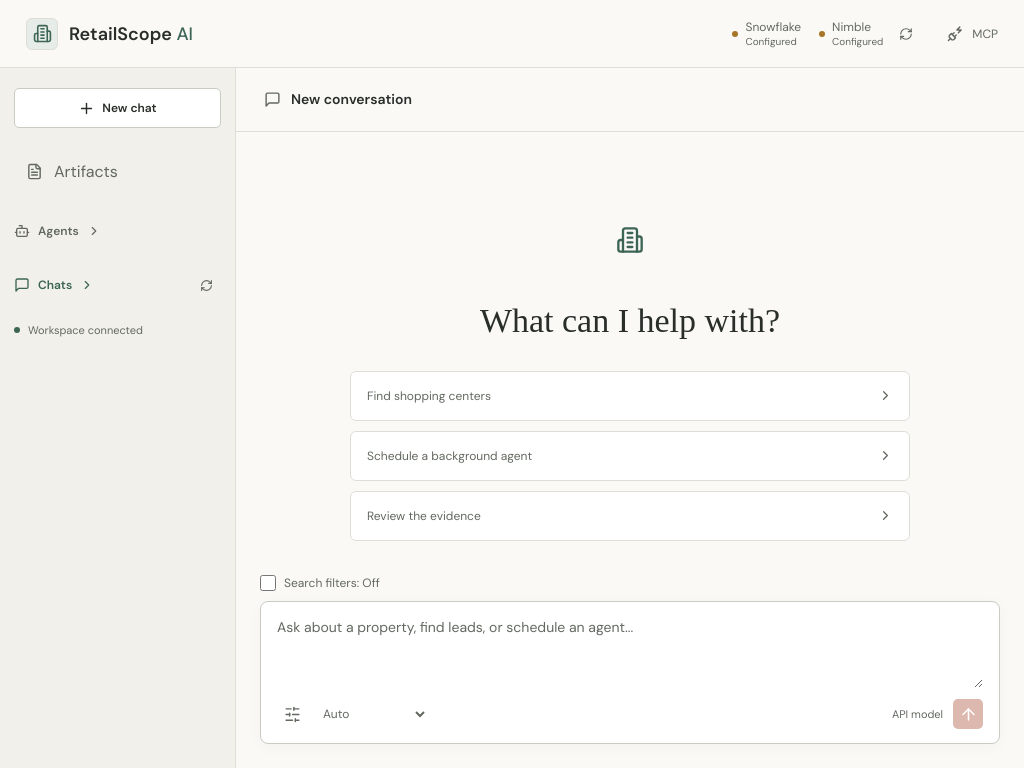
Test: chat-first workspace › keeps late chat replies in their thread without leaving Artifacts
The image size is (1024, 768).
Expected: the text "Workspace connected" is shown, [14,323,143,337]
Type "Evaluate the evidence" into the text box named "Message RetailScope" at (630,652), box [277,616,983,688]
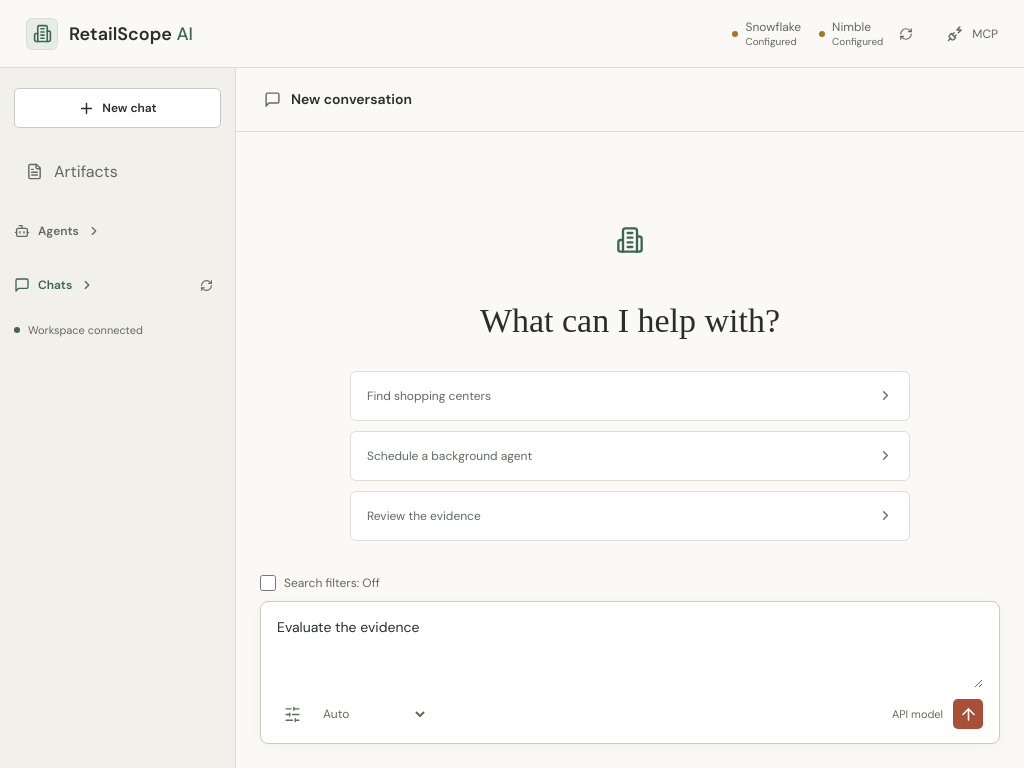
Click the button named "Send message" at (968,714), box [953,699,983,729]
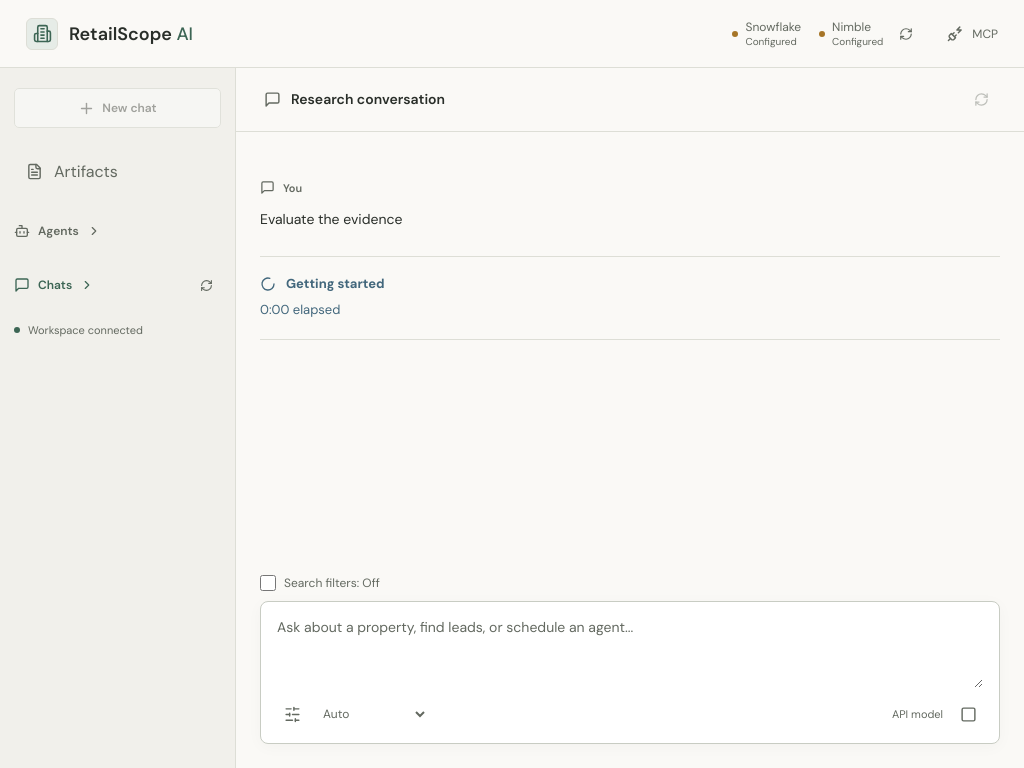
Now the button "New chat" is disabled, box [14,88,221,128]
Click the button "Artifacts" at (118,172), box [14,150,221,193]
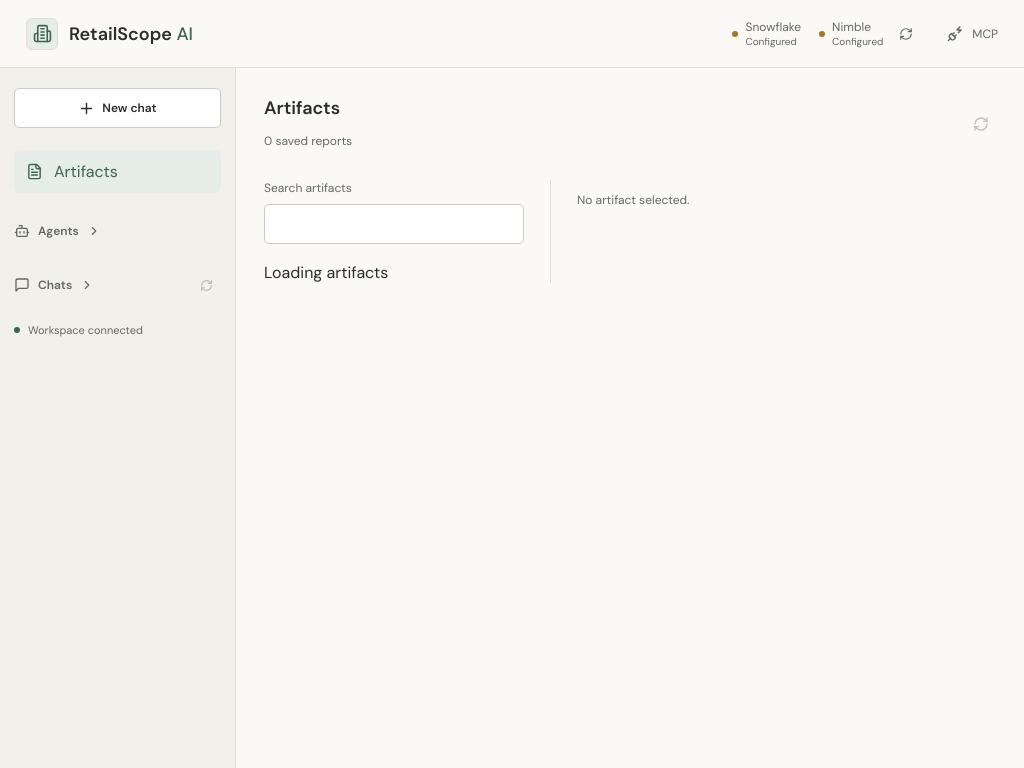
Now the button "New chat" is enabled, box [14,88,221,128]
Now the element "Artifacts" is shown, box [236,68,1023,311]
Click the button "Chats" at (54,285), box [14,269,94,301]
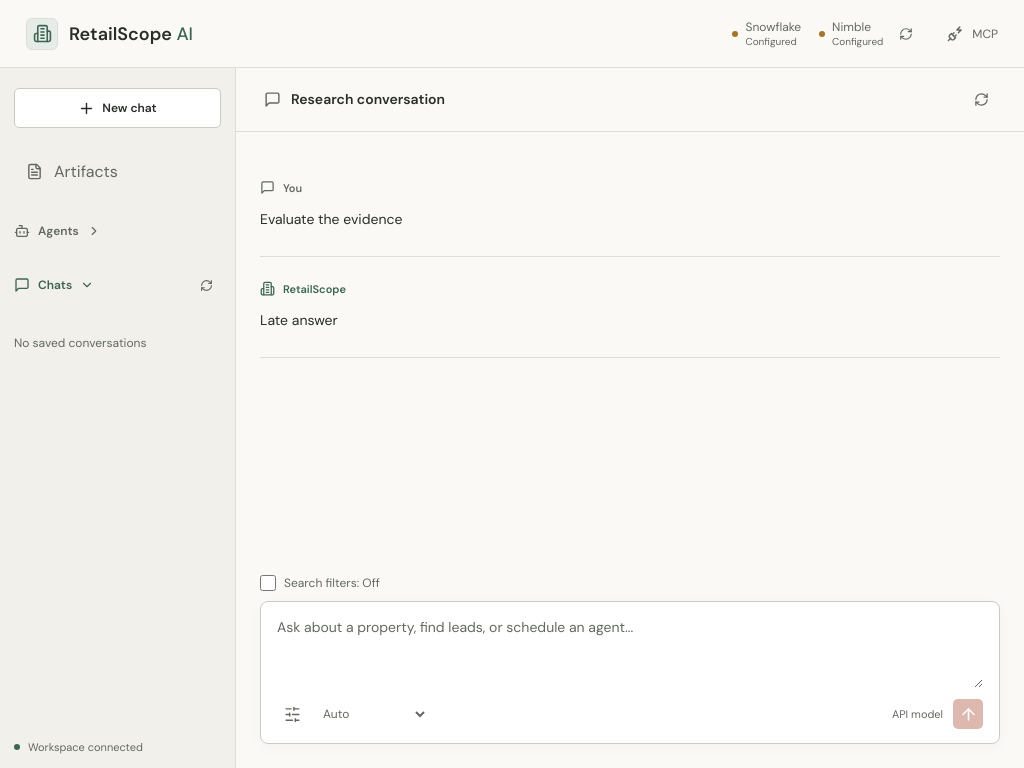
Now the text "Late answer" is shown, box [260,311,338,329]
Now the text "Evaluate the evidence" is shown, box [260,210,402,228]
